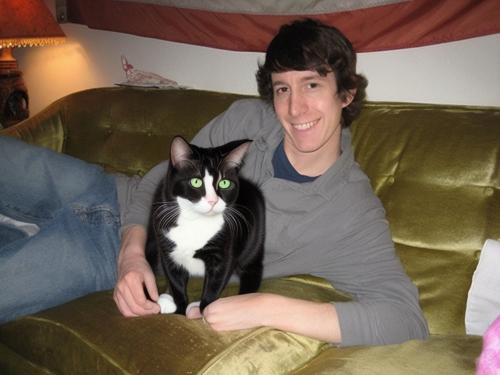cat: (143, 135, 265, 314)
person: (2, 18, 431, 350)
person/hand: (171, 278, 254, 333), (112, 263, 169, 319)
person/head: (256, 19, 366, 154)
sofa: (3, 88, 500, 375)
